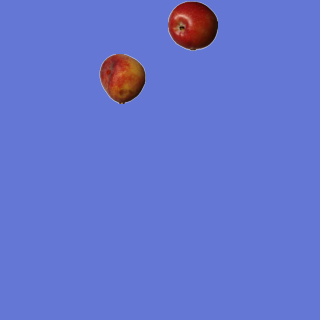Apple Braeburn: (167, 0, 217, 50)
Peach: (97, 53, 147, 103)
